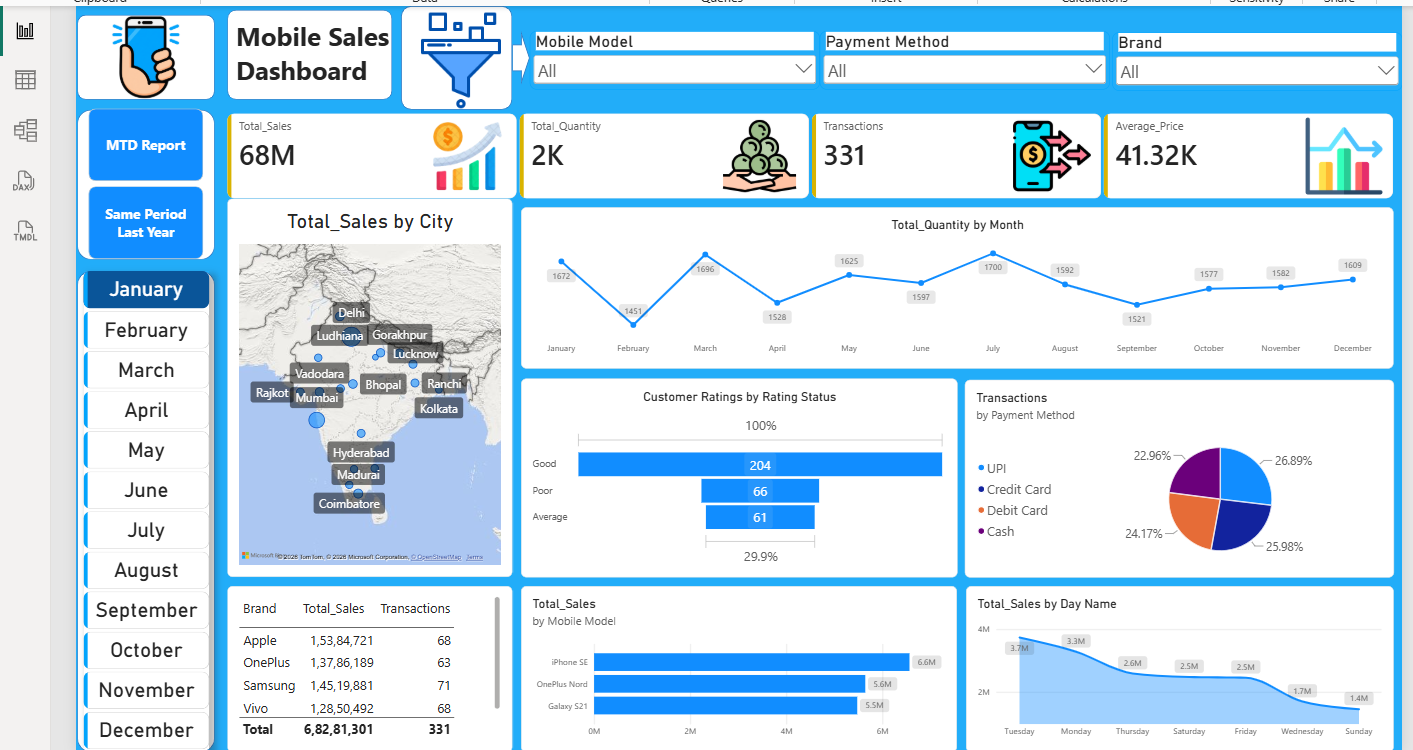

The dashboard page shown, as its layout file describes it:
{"tool":"powerbi","page":{"name":"Dashboard","canvas":[1920,1080],"ordinal":0},"visuals":[{"type":"shape","box":[1.8,12.7,199.1,123.1],"z":0},{"type":"image","box":[18.1,12.7,166.5,123.1],"z":1000},{"type":"shape","box":[1.8,150.2,199.1,217.2],"z":2000},{"type":"shape","box":[1.8,383.6,199.1,696.7],"z":3000},{"type":"advancedSlicerVisual","fields":{"Values":["Custom_Calendar.Date.Variation.Date Hierarchy.Month"]},"box":[10.9,383.6,182.8,696.7],"z":4000},{"type":"cardVisual","fields":{"Data":["Mobile_Sales_Data.Total_Sales","Mobile_Sales_Data.Total_Quantity","Mobile_Sales_Data.Transactions","Mobile_Sales_Data.Average_Price"]},"box":[219,155.6,1688.4,123.1],"z":5000},{"type":"slicer","fields":{"Values":["Mobile_Sales_Data.Mobile Model"]},"box":[656.9,36.2,419.8,85.1],"z":6000},{"type":"slicer","fields":{"Values":["Mobile_Sales_Data.Payment Method"]},"box":[1076.7,36.2,419.8,85.1],"z":7000},{"type":"slicer","fields":{"Values":["Mobile_Sales_Data.Brand"]},"box":[1500.2,38,419.8,85.1],"z":8000},{"type":"shape","box":[470.5,0,161.1,150.2],"z":9000},{"type":"image","box":[322.1,7.2,470.5,143],"z":10000},{"type":"shape","box":[631.6,36.2,25.3,77.8],"z":11000},{"type":"shape","box":[219,5.4,238.9,130.3],"z":12000},{"type":"textbox","box":[231.6,18.1,238.9,103.2],"z":13000},{"type":"map","fields":{"Category":["Mobile_Sales_Data.City"],"Size":["Mobile_Sales_Data.Total_Sales"]},"box":[219,278.7,412.6,548.3],"z":14000},{"type":"lineChart","fields":{"Y":["Mobile_Sales_Data.Total_Quantity"],"Category":["Custom_Calendar.Date.Variation.Date Hierarchy.Month"]},"box":[644.2,291.4,1263.1,233.4],"z":15000},{"type":"funnel","title":" Customer Ratings by Rating Status","fields":{"Y":["CountNonNull(Mobile_Sales_Data.Customer Ratings)"],"Category":["Mobile_Sales_Data.Rating Status"]},"box":[644.3,539.3,631.9,288.2],"z":16000},{"type":"pieChart","fields":{"Y":["Mobile_Sales_Data.Transactions"],"Category":["Mobile_Sales_Data.Payment Method"]},"box":[1286.5,541.3,621.6,286.1],"z":17000},{"type":"clusteredBarChart","fields":{"Y":["Mobile_Sales_Data.Total_Sales"],"Category":["Mobile_Sales_Data.Mobile Model"]},"box":[644.2,839.7,631.6,240.7],"z":18000},{"type":"areaChart","fields":{"Y":["Mobile_Sales_Data.Total_Sales"],"Category":["Custom_Calendar.Day Name"]},"box":[1288.5,839.7,618.9,240.7],"z":19000},{"type":"tableEx","fields":{"Values":["Mobile_Sales_Data.Brand","Mobile_Sales_Data.Total_Sales","Mobile_Sales_Data.Transactions"]},"box":[219,839.7,412.6,240.7],"z":20000},{"type":"pageNavigator","box":[18.1,148.4,166.5,219],"z":21001}]}

Visuals, with their boxes in screenshot pixels (x1, y1, x2, y2):
shape: (x1=75, y1=12, x2=211, y2=97)
image: (x1=86, y1=12, x2=200, y2=97)
shape: (x1=75, y1=107, x2=211, y2=256)
shape: (x1=75, y1=267, x2=211, y2=744)
advancedSlicerVisual - Custom_Calendar.Date.Variation.Date Hierarchy.Month: (x1=81, y1=267, x2=206, y2=744)
cardVisual - Mobile_Sales_Data.Total_Sales x Mobile_Sales_Data.Total_Quantity: (x1=224, y1=110, x2=1381, y2=195)
slicer - Mobile_Sales_Data.Mobile Model: (x1=524, y1=28, x2=812, y2=87)
slicer - Mobile_Sales_Data.Payment Method: (x1=812, y1=28, x2=1099, y2=87)
slicer - Mobile_Sales_Data.Brand: (x1=1102, y1=30, x2=1390, y2=88)
shape: (x1=396, y1=4, x2=507, y2=107)
image: (x1=294, y1=9, x2=617, y2=107)
shape: (x1=507, y1=28, x2=524, y2=82)
shape: (x1=224, y1=7, x2=387, y2=97)
textbox: (x1=232, y1=16, x2=396, y2=87)
map - Mobile_Sales_Data.City x Mobile_Sales_Data.Total_Sales: (x1=224, y1=195, x2=507, y2=571)
lineChart - Mobile_Sales_Data.Total_Quantity x Custom_Calendar.Date.Variation.Date Hierarchy.Month: (x1=515, y1=203, x2=1381, y2=363)
" Customer Ratings by Rating Status" funnel: (x1=515, y1=373, x2=948, y2=571)
pieChart - Mobile_Sales_Data.Transactions x Mobile_Sales_Data.Payment Method: (x1=955, y1=375, x2=1381, y2=571)
clusteredBarChart - Mobile_Sales_Data.Total_Sales x Mobile_Sales_Data.Mobile Model: (x1=515, y1=579, x2=948, y2=744)
areaChart - Mobile_Sales_Data.Total_Sales x Custom_Calendar.Day Name: (x1=957, y1=579, x2=1381, y2=744)
tableEx - Mobile_Sales_Data.Brand x Mobile_Sales_Data.Total_Sales: (x1=224, y1=579, x2=507, y2=744)
pageNavigator: (x1=86, y1=105, x2=200, y2=256)
